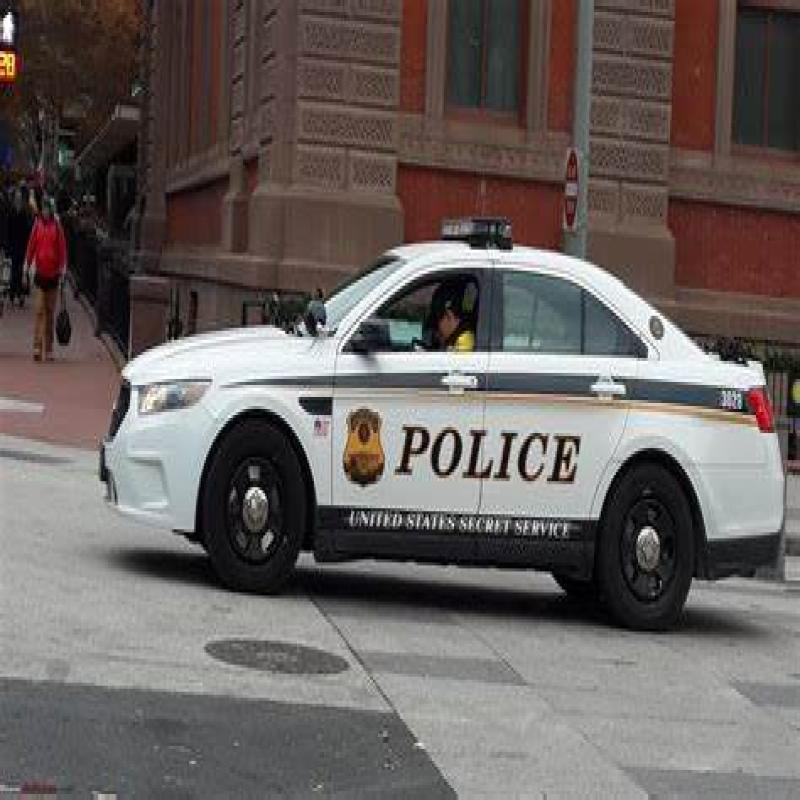car: (94, 192, 800, 649)
